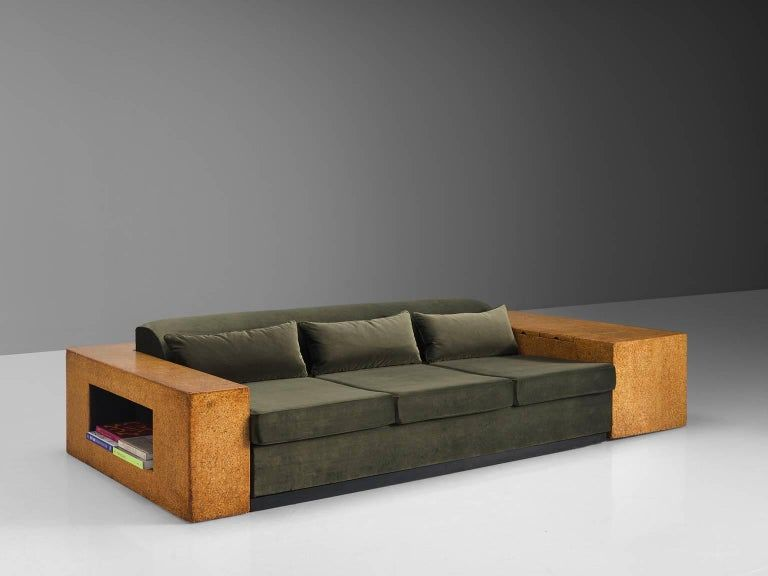3seatersofa: (67, 300, 686, 521)
backrest: (137, 300, 517, 382)
base: (252, 394, 609, 496)
leftarmrest: (510, 311, 686, 437)
leg: (251, 434, 605, 511)
rightarmrest: (66, 343, 249, 521)
seat: (248, 355, 614, 444)
